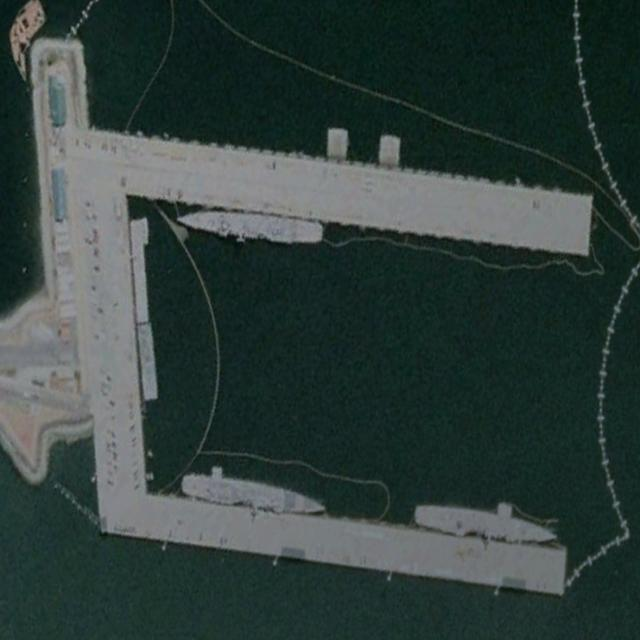Other Warship: (180, 470, 326, 517), (414, 501, 557, 546), (176, 204, 321, 244)
